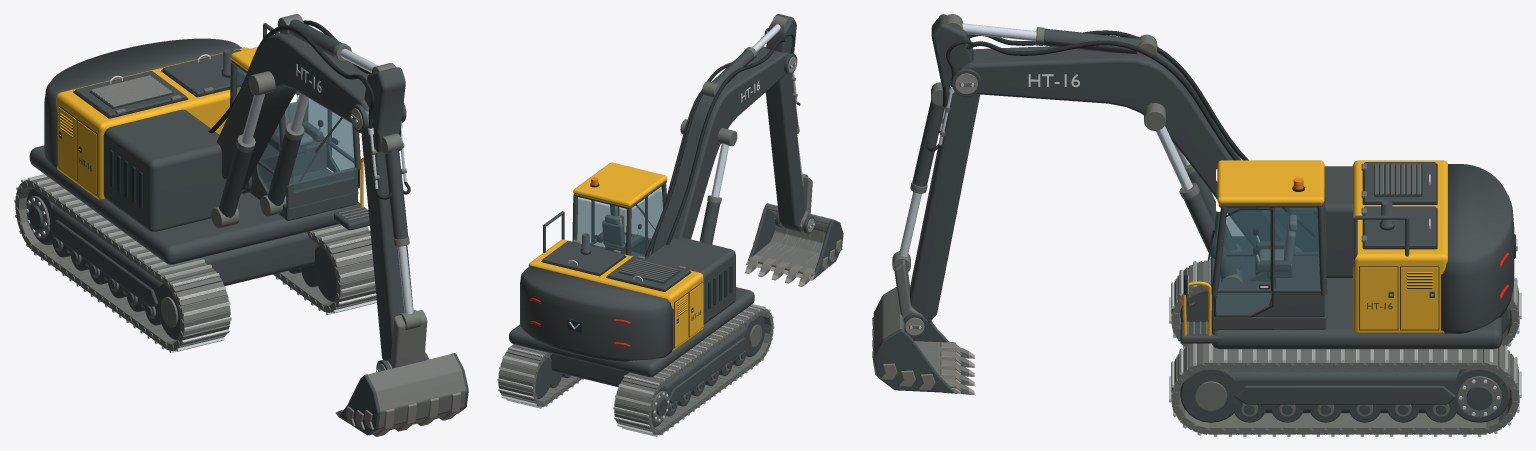
Rendered from volvo_ec950f.glb.
3 renders of one model, left to right at view 1: azimuth 30°, elevation 25°; view 2: azimuth 150°, elevation 25°; view 3: azimuth 270°, elevation 25°, orthographic. The views are drawn at different scales.
Parts seen in each view (by area): view 1: Engine access enclosure, Continuous crawler shoes -1, Boom, Upper deck, Dipper, Rounded cast counterweight, Continuous crawler shoes 1, Digging bucket shell, Windshield, Engine service body, Cross carriage, Track roller guard (+25 smaller); view 2: Rounded cast counterweight, Boom, Continuous crawler shoes -1, Dipper, Engine access enclosure, Upper deck, Continuous crawler shoes 1, Cab roof, Digging bucket shell, Rear window, Engine service body, Service hatch lid.001 (+24 smaller); view 3: Boom, Continuous crawler shoes 1, Rounded cast counterweight, Dipper, Upper deck, Track frame.001, Cab roof, Engine service body, Engine access enclosure, Track roller guard.001, Door glass.001, Quarter glass.001 (+32 smaller).
Boxes of the visible parts, x1,y1,x2,y2 form: Engine access enclosure: [103, 109, 226, 231]; Continuous crawler shoes -1: [14, 174, 231, 352]; Boom: [216, 33, 369, 190]; Upper deck: [29, 145, 360, 264]; Dipper: [361, 67, 413, 360]; Rounded cast counterweight: [44, 38, 241, 168]; Continuous crawler shoes 1: [273, 224, 376, 314]; Digging bucket shell: [340, 353, 466, 434]; Windshield: [288, 99, 354, 192]; Engine service body: [56, 47, 249, 199]; Cross carriage: [199, 232, 317, 286]; Track roller guard: [49, 220, 158, 307]; Rounded cast counterweight: [520, 265, 673, 361]; Boom: [651, 47, 789, 253]; Continuous crawler shoes -1: [613, 304, 774, 436]; Dipper: [765, 14, 805, 231]; Engine access enclosure: [645, 238, 735, 324]; Upper deck: [509, 287, 754, 377]; Continuous crawler shoes 1: [497, 344, 583, 408]; Cab roof: [573, 162, 667, 207]; Digging bucket shell: [748, 203, 831, 276]; Rear window: [577, 199, 625, 254]; Engine service body: [528, 239, 703, 351]; Service hatch lid.001: [542, 240, 624, 274]; Boom: [958, 46, 1294, 251]; Continuous crawler shoes 1: [1169, 343, 1521, 436]; Rounded cast counterweight: [1441, 164, 1514, 333]; Dipper: [910, 14, 979, 324]; Upper deck: [1211, 236, 1502, 349]; Track frame.001: [1218, 369, 1464, 413]; Cab roof: [1217, 160, 1324, 204]; Engine service body: [1353, 160, 1447, 333]; Engine access enclosure: [1255, 166, 1353, 277]; Track roller guard.001: [1234, 385, 1455, 404]; Door glass.001: [1218, 212, 1269, 288]; Quarter glass.001: [1275, 212, 1318, 288].
Bounding box in the file's own units: 4 × 6.39 × 10.31.
